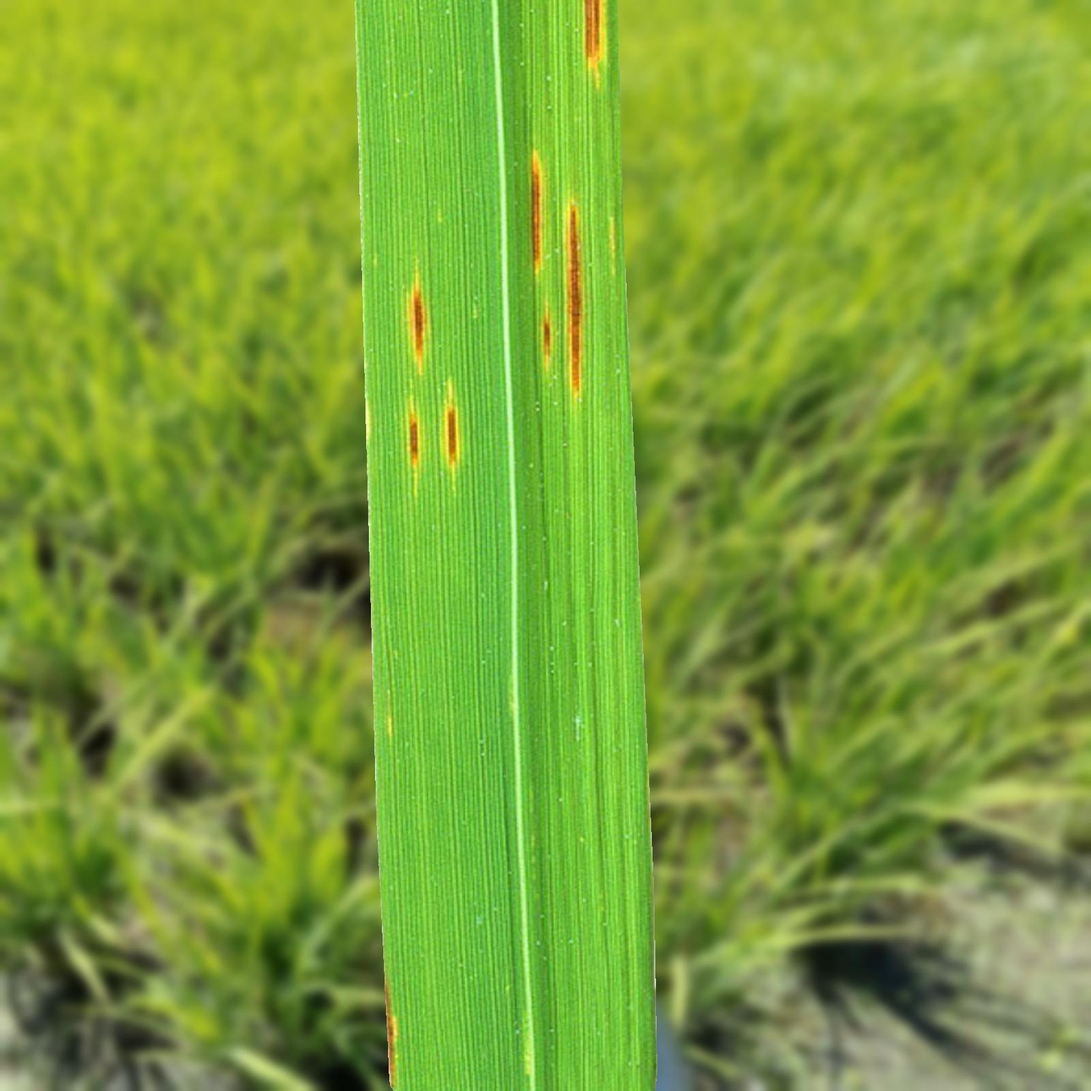LEAF: (355, 0, 657, 1090)
NBS: (570, 207, 580, 391), (585, 0, 601, 56), (385, 985, 394, 1082), (532, 165, 540, 261), (414, 293, 423, 351), (448, 408, 456, 455), (411, 420, 418, 459), (544, 322, 550, 354)
